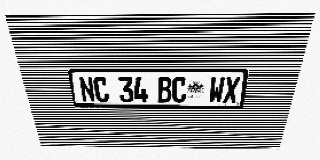3: (118, 77, 134, 103)
4: (133, 77, 148, 103)
B: (157, 77, 172, 103)
C: (93, 77, 109, 102), (172, 77, 187, 103)
N: (78, 76, 96, 102)
W: (208, 77, 225, 103)
X: (223, 77, 240, 103)
